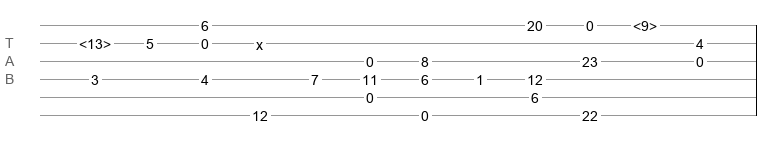0: (201, 36, 209, 46), (366, 54, 374, 64), (366, 90, 374, 100), (421, 108, 429, 118), (586, 18, 594, 28), (696, 54, 704, 64)
1: (476, 72, 484, 82)
11: (362, 72, 378, 82)
12: (252, 108, 268, 118), (527, 72, 543, 82)
20: (527, 18, 543, 28)
22: (582, 108, 598, 118)
23: (582, 54, 598, 64)
3: (91, 72, 99, 82)
4: (201, 72, 209, 82), (696, 36, 704, 46)
5: (146, 36, 154, 46)
6: (201, 18, 209, 28), (421, 72, 429, 82), (531, 90, 539, 100)
7: (311, 72, 319, 82)
8: (421, 54, 429, 64)
harmonic: (79, 36, 111, 46), (633, 18, 657, 28)
x: (256, 37, 263, 45)
